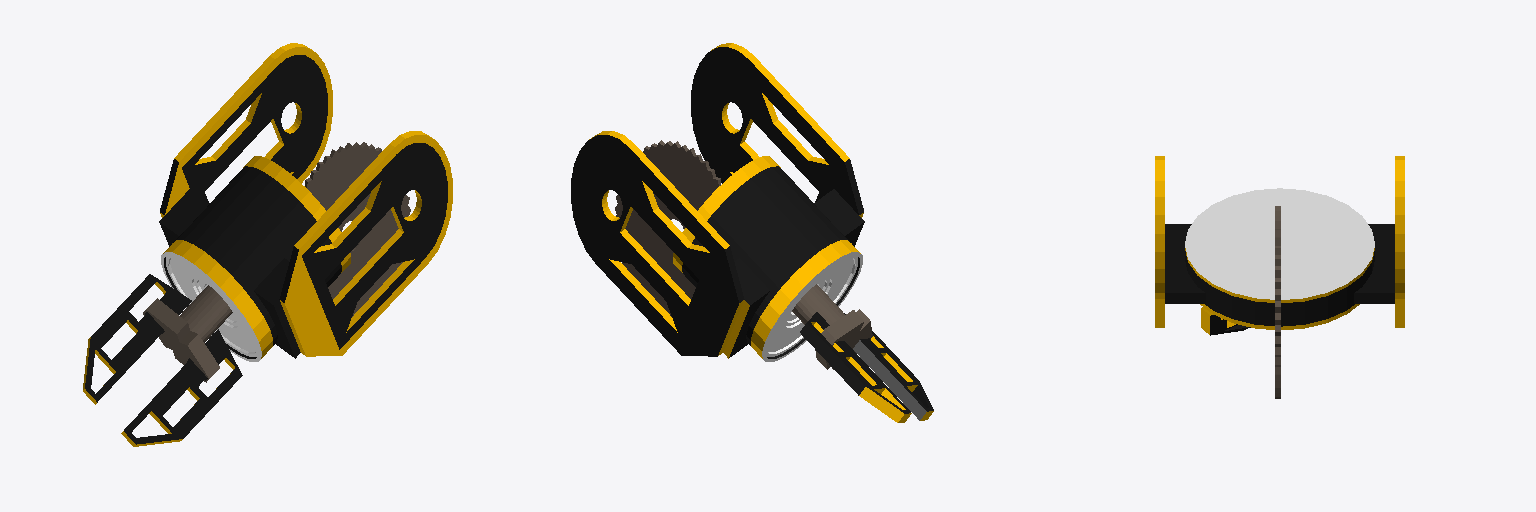
The model's file is dev1_1.obj.
3 views of the same model, side by side, from view 1: azimuth 30°, elevation 25°; view 2: azimuth 150°, elevation 25°; view 3: azimuth 270°, elevation 25° (orthographic).
Visible parts, largest first — view 1: Component_1_001, Component_5_001, Component_3_001, Component_2_001, Component_4_001; view 2: Component_1_001, Component_5_001, Component_2_001, Component_3_001, Component_4_001; view 3: Component_1_001, Component_5_001, Component_3_001.
Part boxes in pixels (x1,y1,x2,y2): Component_1_001: (159, 43, 452, 361); Component_5_001: (305, 142, 410, 316); Component_3_001: (121, 329, 242, 446); Component_2_001: (83, 274, 191, 404); Component_4_001: (143, 285, 232, 382); Component_1_001: (571, 43, 864, 361); Component_5_001: (615, 140, 720, 316); Component_2_001: (800, 312, 911, 422); Component_3_001: (844, 313, 933, 420); Component_4_001: (792, 284, 872, 369); Component_1_001: (1155, 156, 1404, 329); Component_5_001: (1275, 206, 1280, 398); Component_3_001: (1201, 307, 1250, 335).
Size of the model in its own units: 23.24 by 20.68 by 16.36.